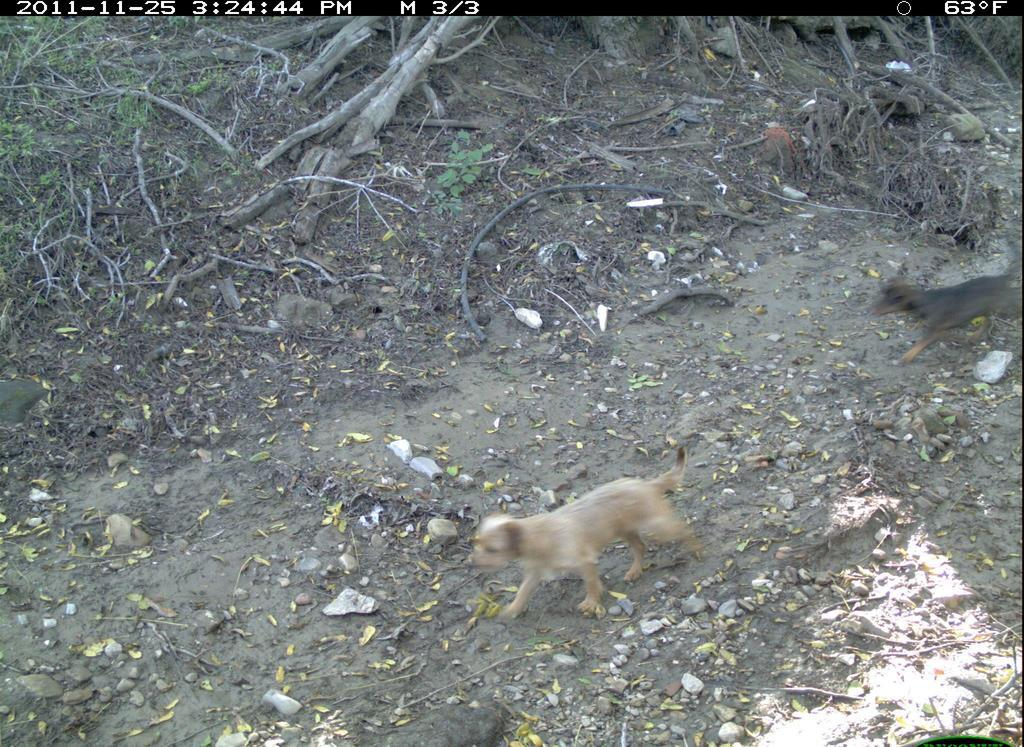dog: (468, 440, 713, 628)
